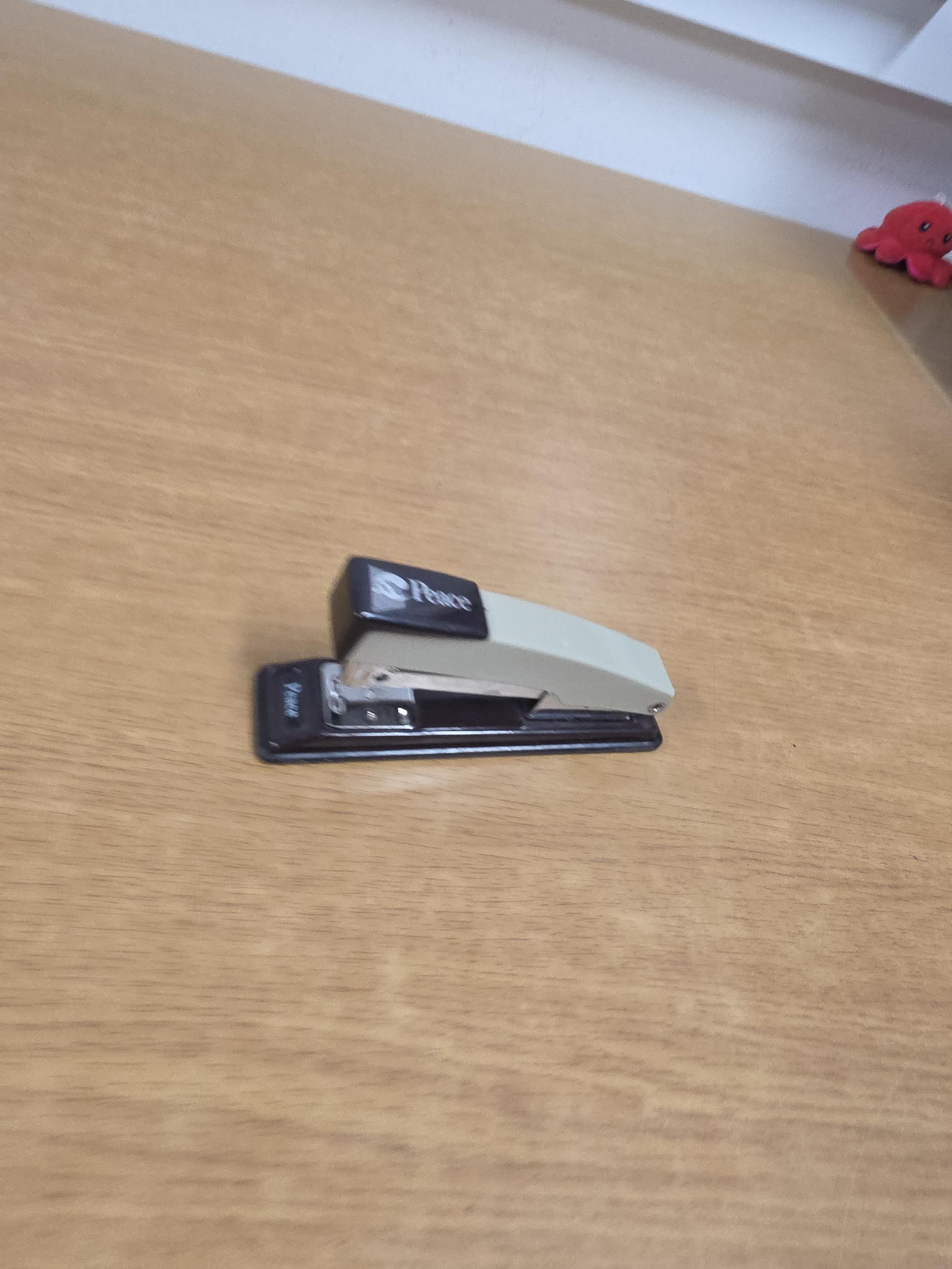stapler: (253, 555, 676, 763)
